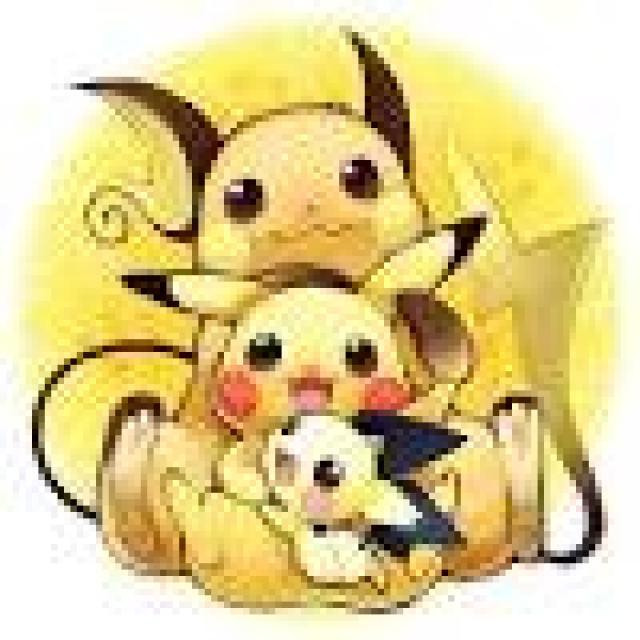pichu: (228, 408, 434, 588)
